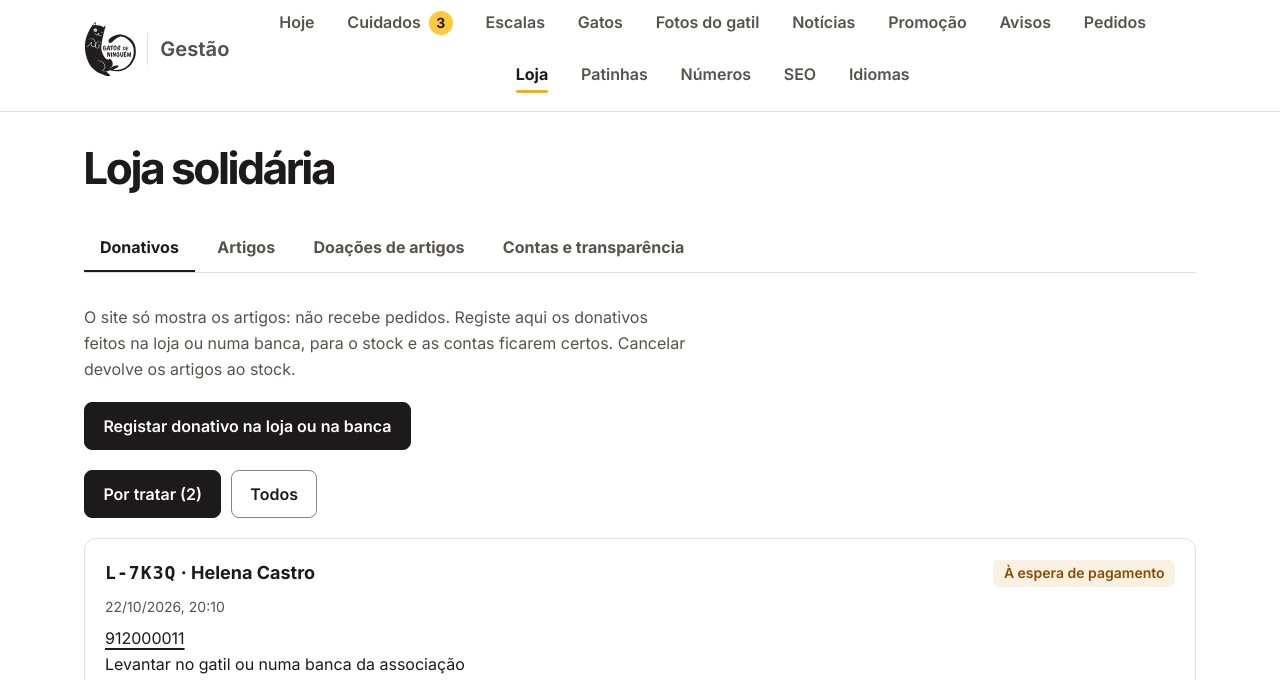
Test: Loja: doações de artigos › accepts an offer, marks it received and puts it in the shop as donated
Click the tab "Doações de artigos": {"x": 389, "y": 248} [298,224,480,272]
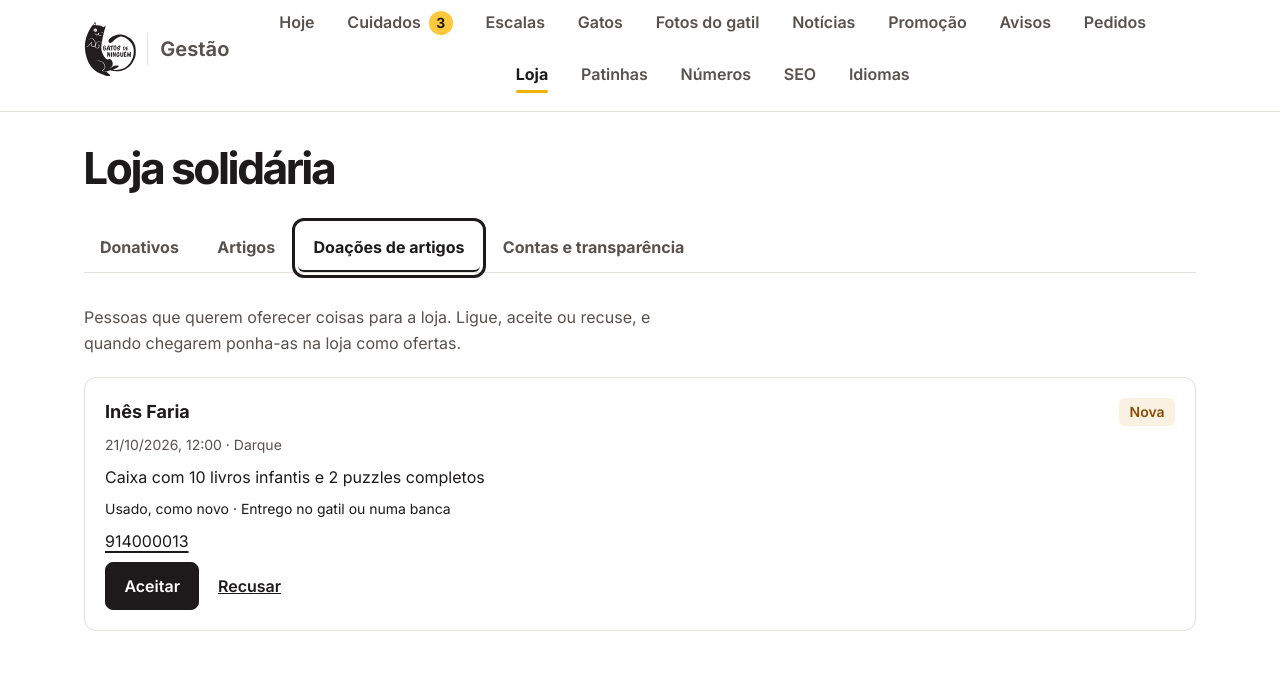
Click the button named "Aceitar (oferta de Inês Faria)": {"x": 152, "y": 586} [105,562,199,610]
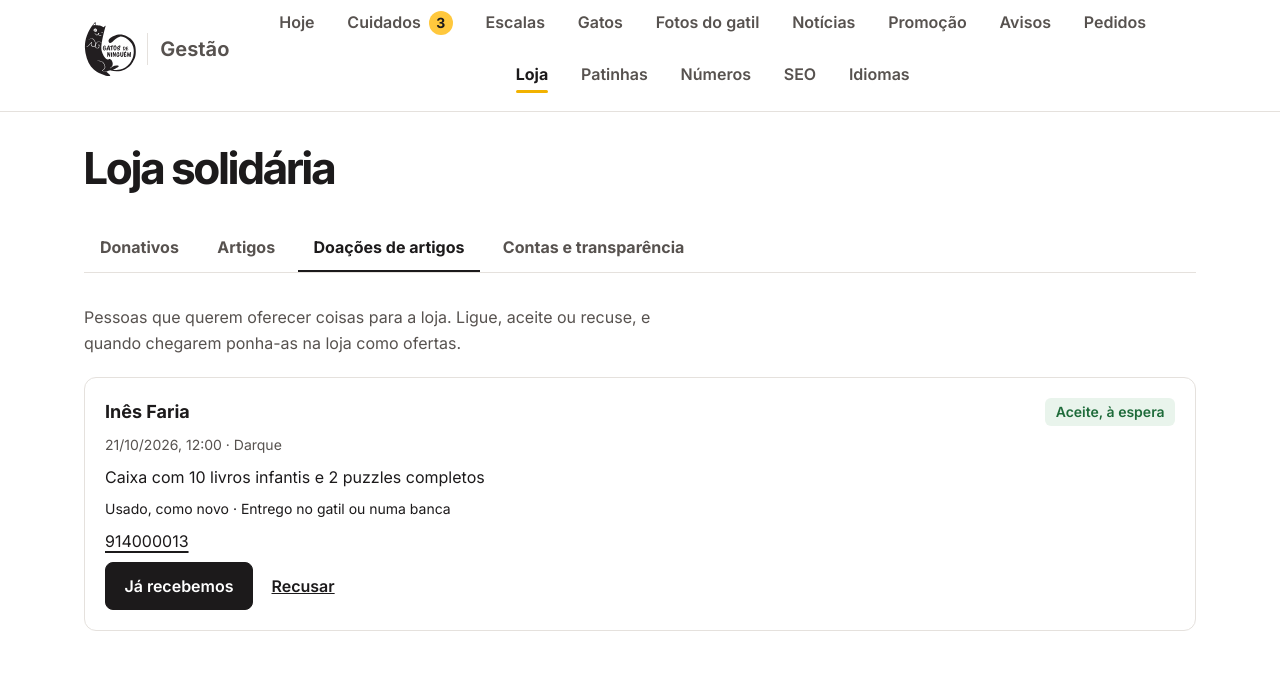
Click the button named "Já recebemos (oferta de Inês Faria)": {"x": 179, "y": 586} [105,562,253,610]
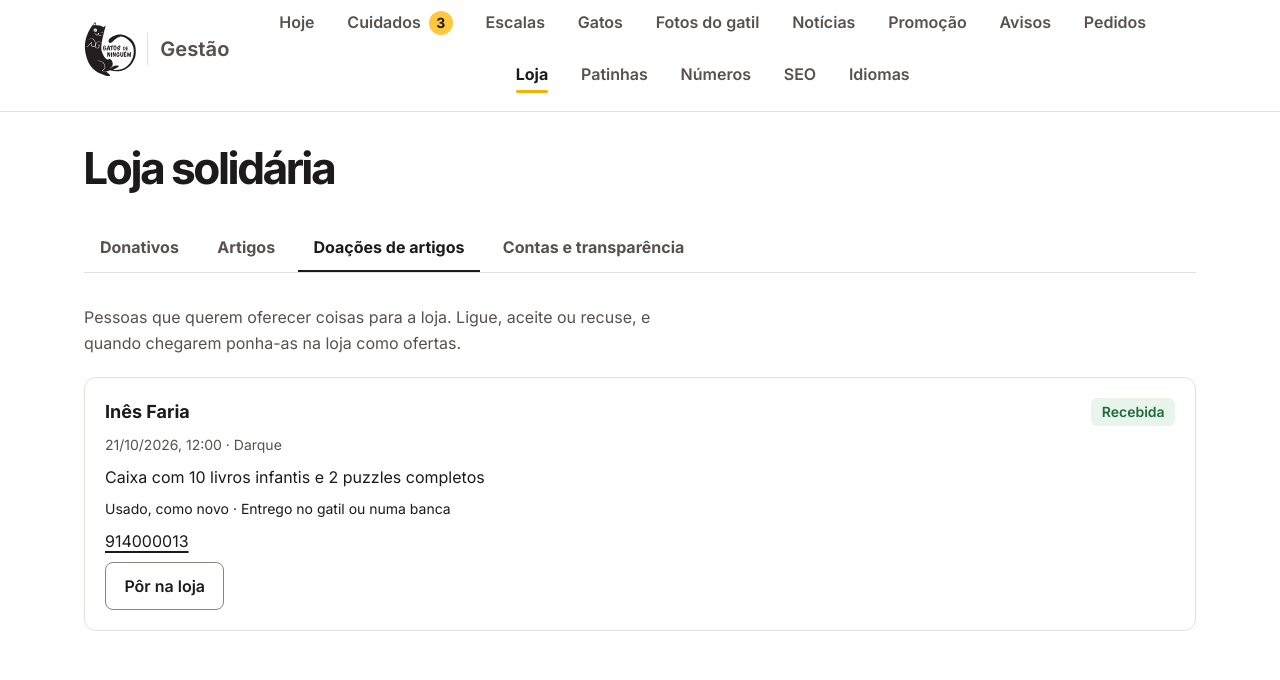
Click the button named "Pôr na loja (oferta de Inês Faria)": {"x": 165, "y": 586} [105,562,224,610]
(page scrolled)
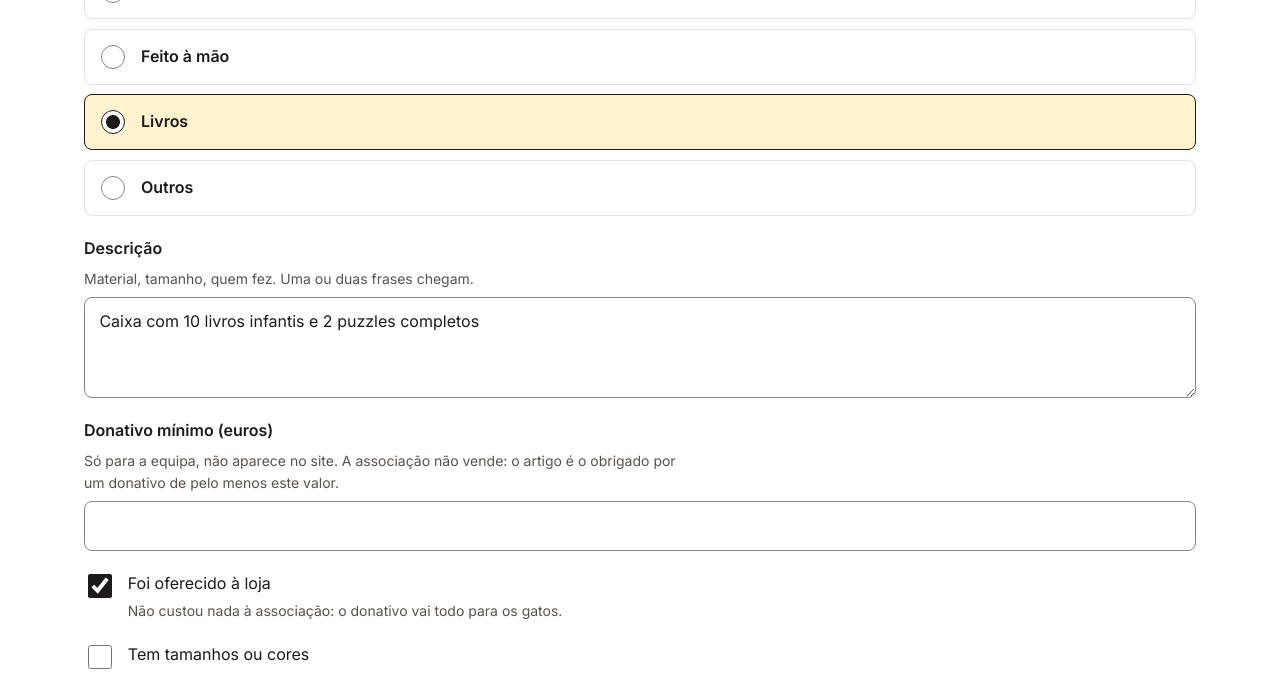
Expected: the checkbox labelled "Foi oferecido à loja" is checked, [88,574,112,598]
Expected: the text box labelled "Descrição" holds "Caixa com 10 livros infantis e 2 puzzles completos", [84,297,1196,398]
